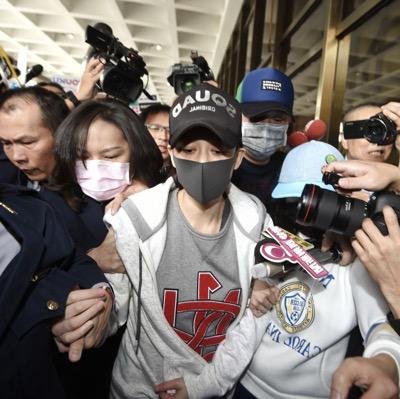with_mask: (173, 134, 238, 210), (74, 143, 133, 200), (239, 112, 290, 161)
without_mask: (0, 129, 57, 183), (345, 116, 393, 163), (145, 120, 171, 160)
